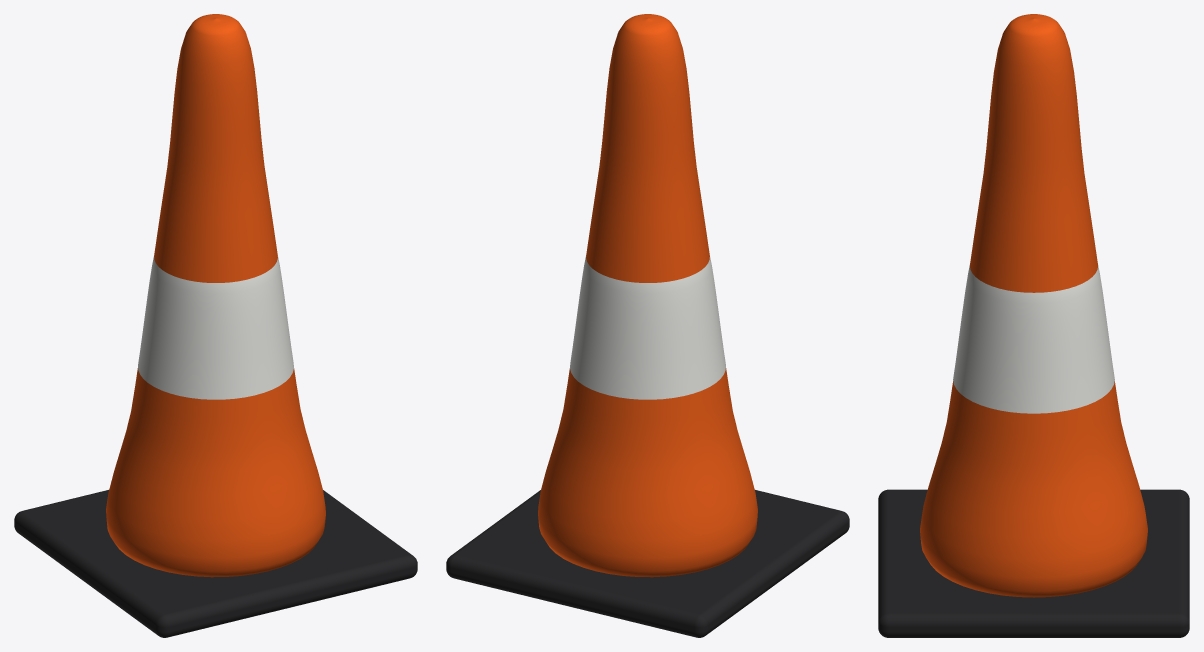
File: traffic_cone.glb
3 renders of one model, left to right at view 1: azimuth 30°, elevation 25°; view 2: azimuth 150°, elevation 25°; view 3: azimuth 270°, elevation 25°, orthographic. The views are drawn at different scales.
Size of the model in its own units: 0.8241 by 1.63 by 0.8241.
